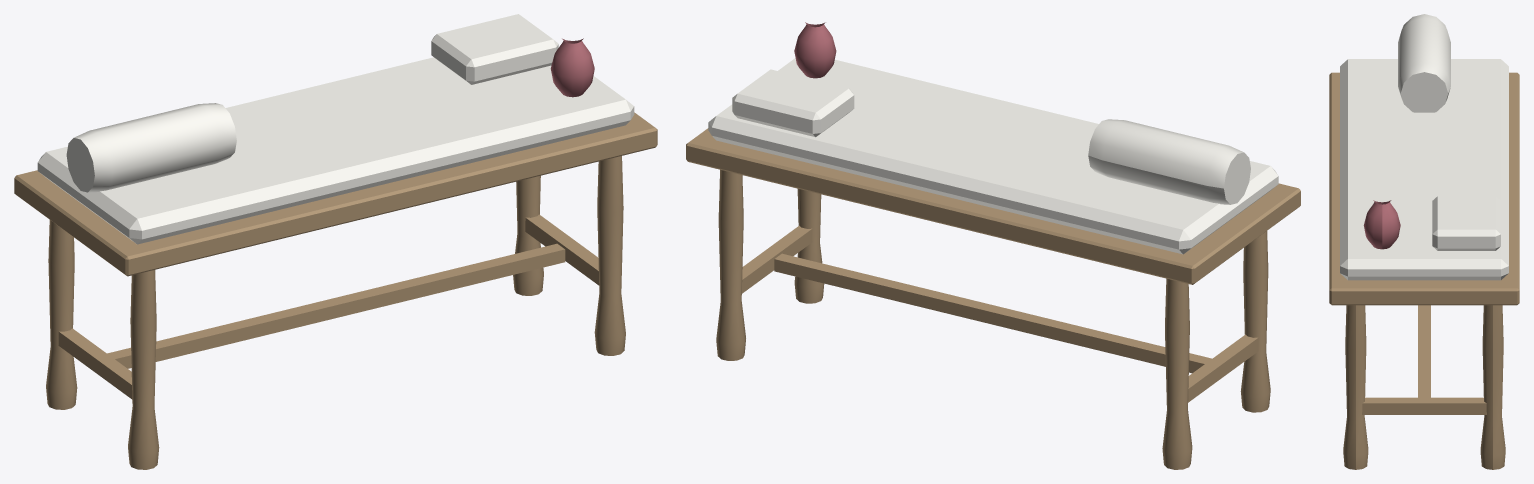
The model's file is roman-bathhouse-and-palaestra-masseur-table-e43d4870__37899.glb.
3 renders of one model, left to right at view 1: azimuth 30°, elevation 25°; view 2: azimuth 150°, elevation 25°; view 3: azimuth 270°, elevation 25°, orthographic. The views are drawn at different scales.
Parts seen in each view (by area): view 1: masseur-table; view 2: masseur-table; view 3: masseur-table.
Part boxes in pixels (left/top/right/bottom): masseur-table: left=14, top=14, right=657, bottom=469; masseur-table: left=686, top=22, right=1300, bottom=469; masseur-table: left=1329, top=14, right=1519, bottom=469.
Bounding box in the file's own units: 1.95 × 1.08 × 0.7199.
